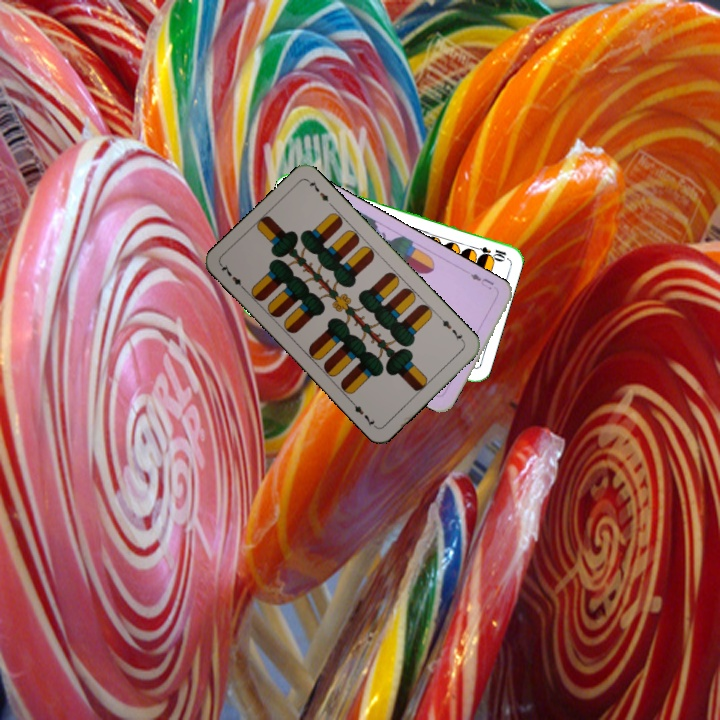E10: (468, 242, 509, 262)
E7: (217, 260, 249, 294), (435, 312, 467, 345)
EU: (466, 269, 496, 292)
